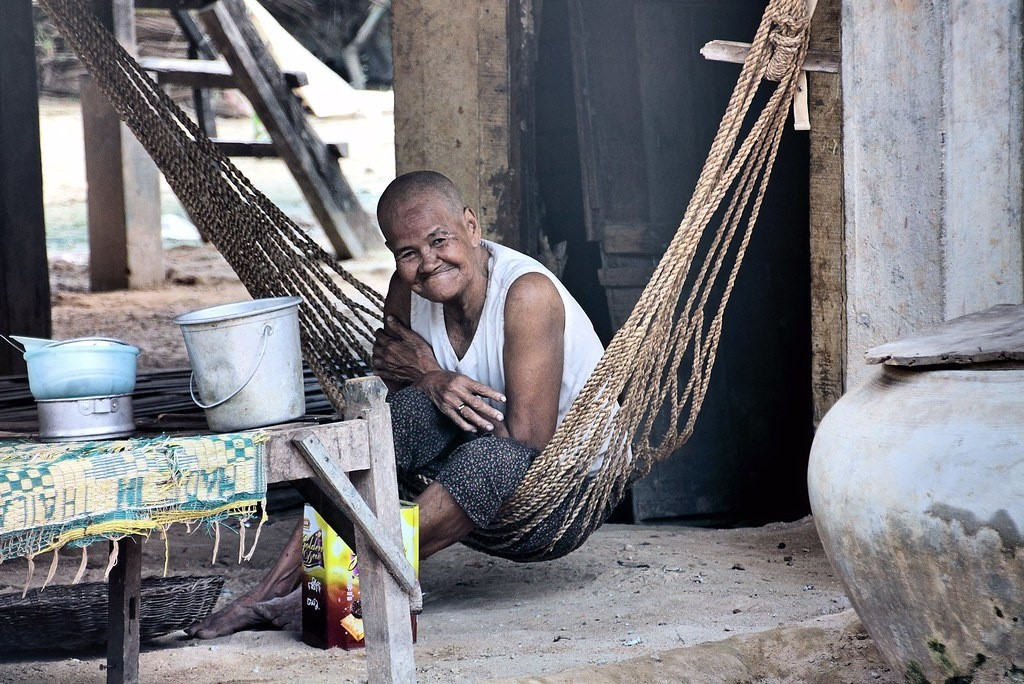face_no_mask: (375, 171, 481, 302)
